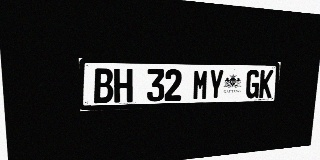2: (165, 69, 182, 101)
3: (147, 69, 165, 102)
B: (93, 68, 113, 103)
G: (245, 70, 260, 98)
H: (114, 69, 133, 103)
K: (259, 70, 274, 98)
M: (192, 69, 209, 100)
Y: (208, 69, 224, 100)
